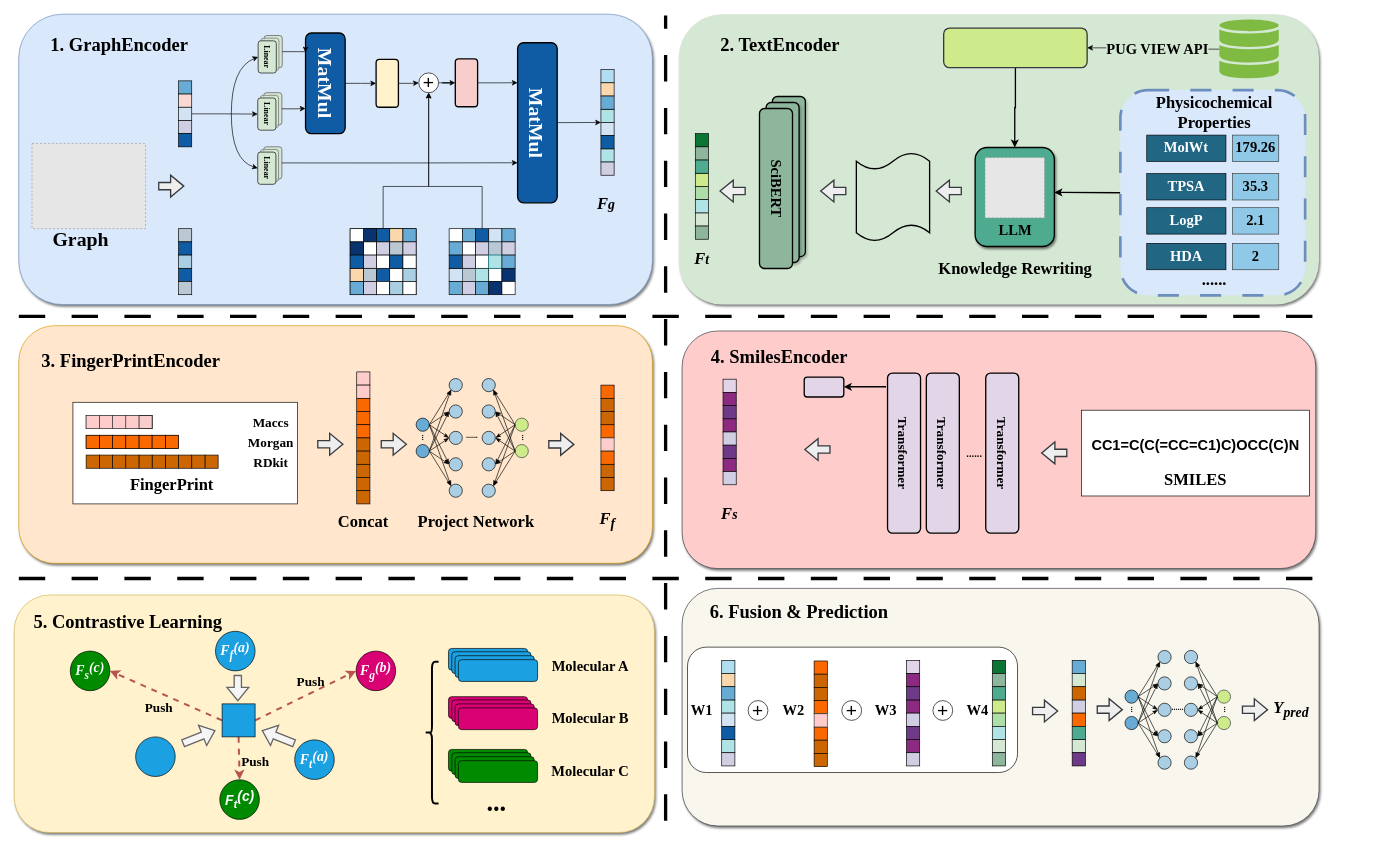
Image size: 1380x849. Some labels were removed from this diagram. Grey dashed boxes stand in for pictures. Each missing label, with the centre of its shape:
CLS: (823,386)
F g (a): (238,720)
F s (a): (155,756)
Scale: (387,83)
SoftMax: (466,82)
Text Data: (1015,47)
This molecule is an aromatic ether and primary amino compound......: (892,197)
